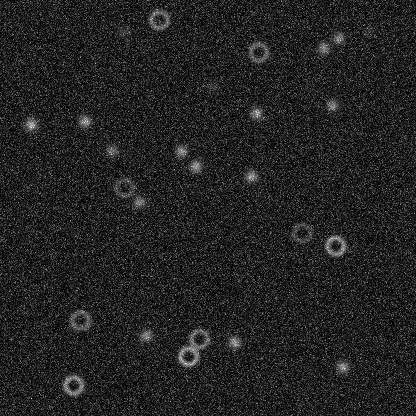Ring: (323, 233, 347, 257), (68, 308, 92, 332), (176, 344, 200, 368), (290, 220, 314, 244), (112, 175, 136, 199), (246, 39, 270, 63), (61, 372, 85, 396), (147, 7, 171, 31), (187, 326, 211, 350)
Spot: (138, 327, 154, 343), (324, 97, 340, 113), (187, 158, 203, 174), (243, 168, 259, 184), (130, 194, 146, 210), (76, 113, 92, 129), (248, 105, 264, 121), (334, 358, 350, 374), (23, 116, 39, 132), (330, 30, 346, 46), (226, 334, 242, 350), (173, 143, 189, 159), (315, 39, 331, 55), (360, 23, 376, 39), (203, 77, 219, 93), (115, 23, 131, 39), (103, 142, 119, 158)
